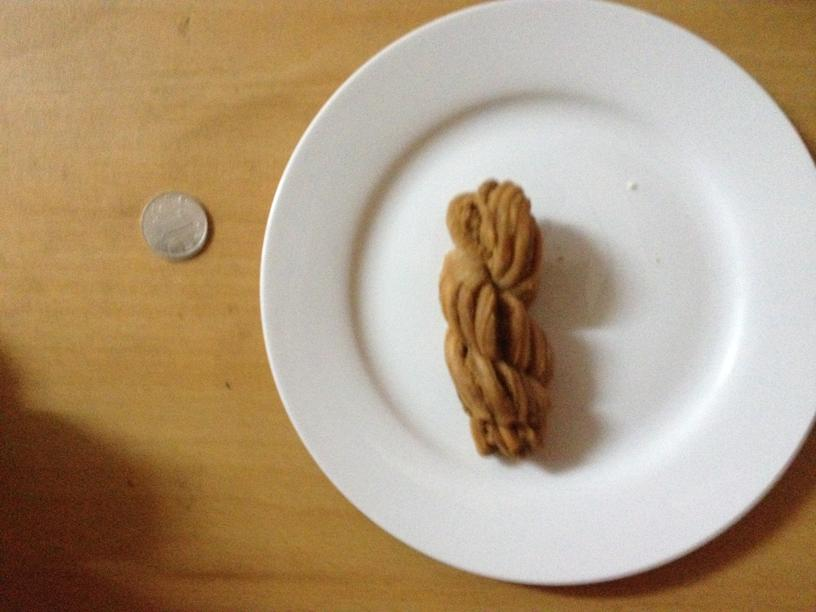coin: (139, 191, 209, 259)
fired_dough_twist: (438, 177, 552, 456)
